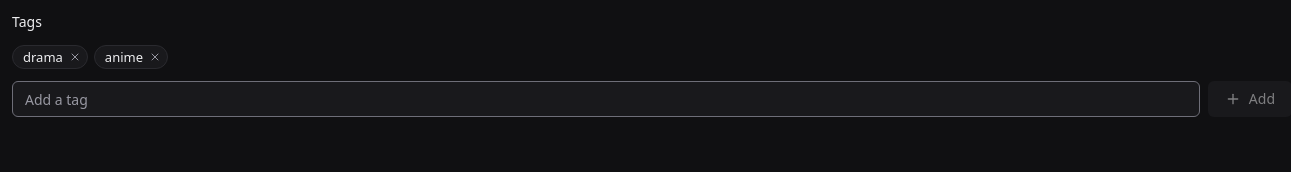
VideoTagsEditor › keeps focus in the list when a tag is removed, then moves it to the field
The image size is (1291, 172).
Step 1. Click the button named "Remove tag drama" → click(75, 57), box x1=67 y1=49 x2=83 y2=65
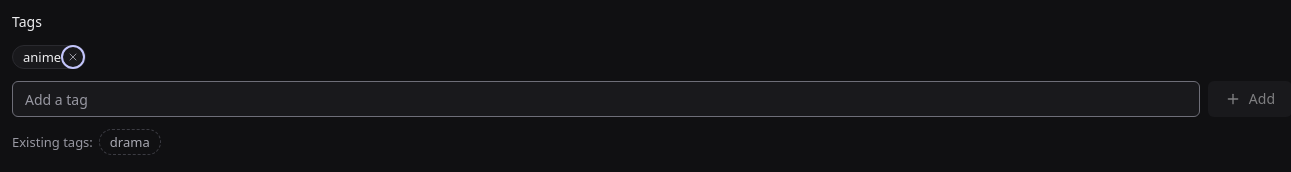
Step 2. Press Enter
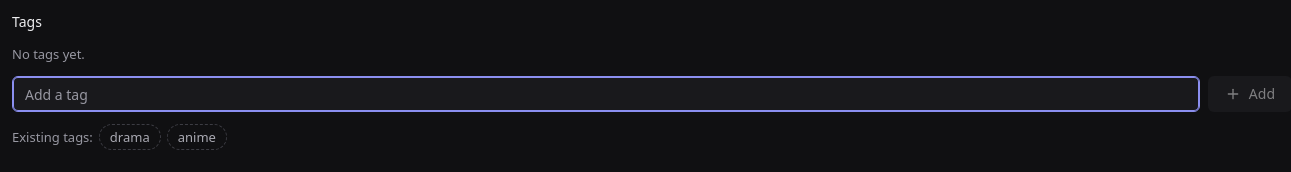
Result: the list item "No tags yet." is shown at x1=12 y1=44 x2=85 y2=64
